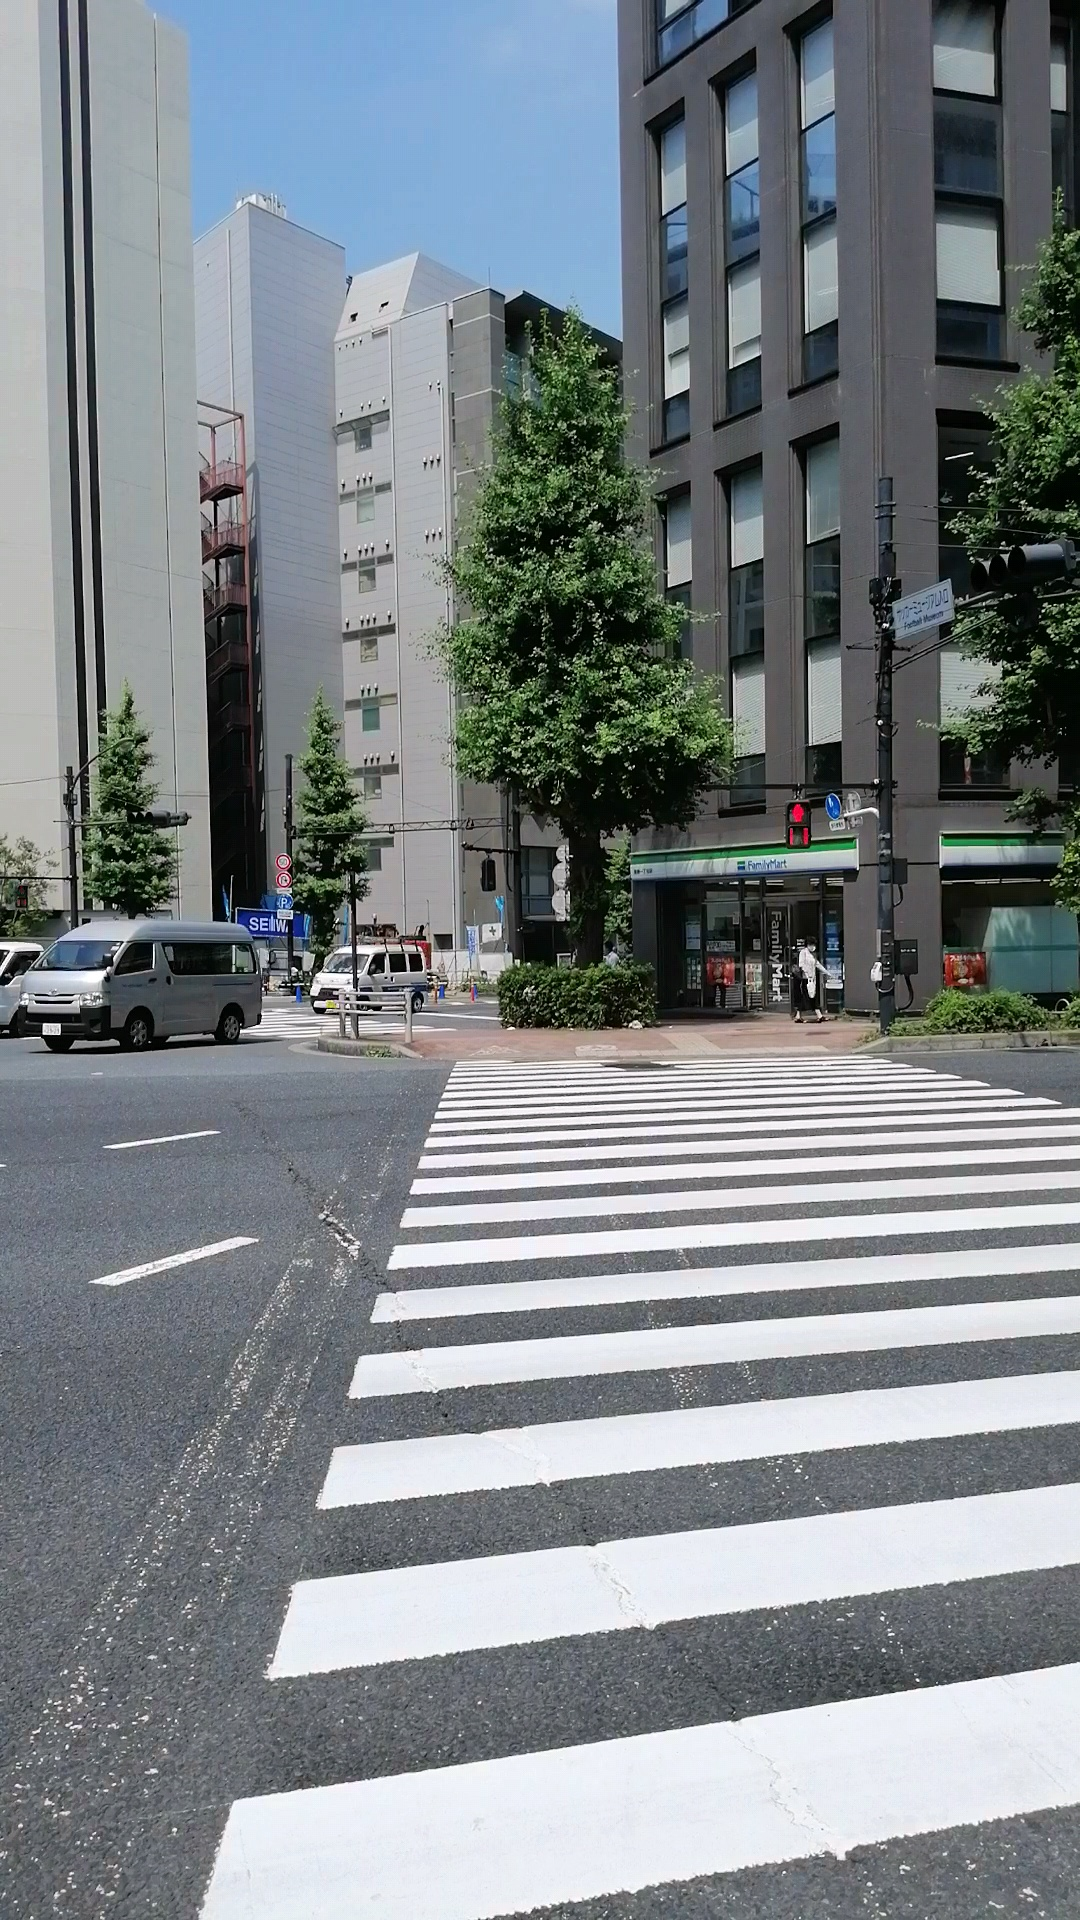red: (785, 799, 811, 851)
